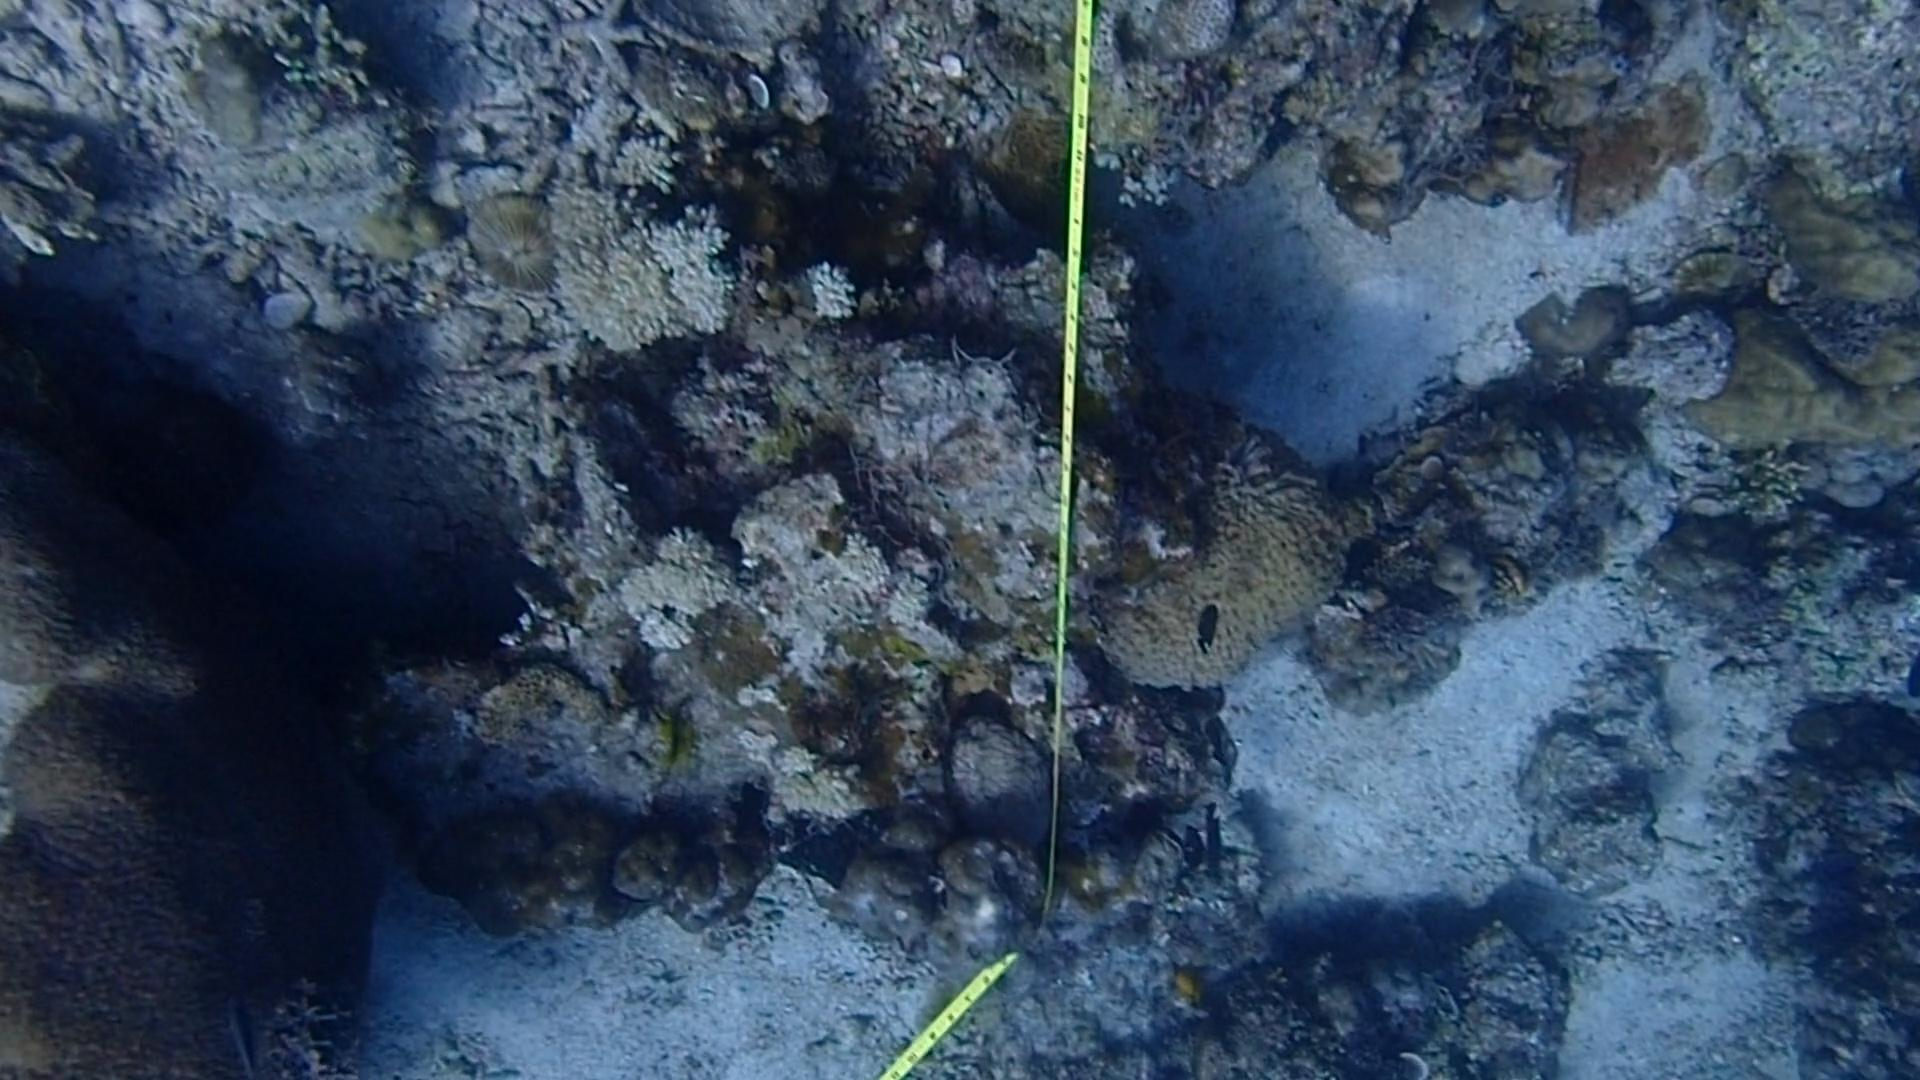Dark Fish: (1185, 808, 1238, 886), (1336, 524, 1394, 592), (1154, 816, 1213, 882), (1183, 604, 1230, 662), (1192, 719, 1234, 773)
